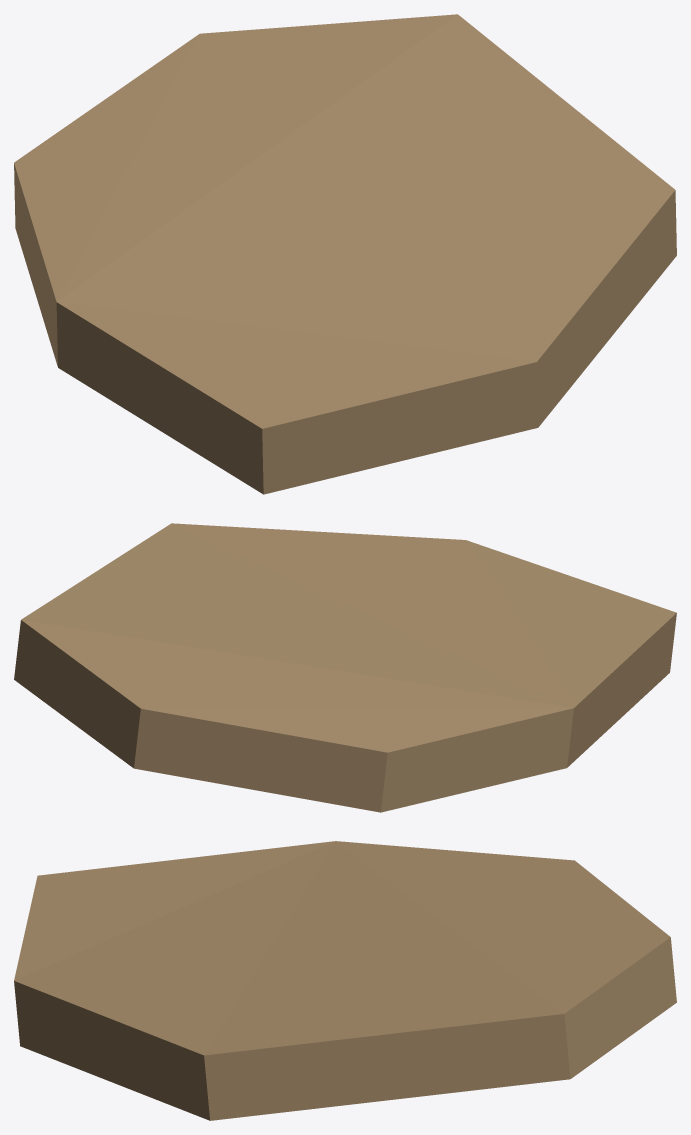
Rendered from Tomatos_0.fbx.
3 renders of one model, top to bottom at view 1: azimuth 30°, elevation 25°; view 2: azimuth 150°, elevation 25°; view 3: azimuth 270°, elevation 25°, orthographic. The views are drawn at different scales.
Visible parts, largest first — view 1: Tomato_0; view 2: Tomato_0; view 3: Tomato_0.
Boxes of the visible parts, x1,y1,x2,y2 form: Tomato_0: [14, 14, 676, 494]; Tomato_0: [14, 523, 676, 812]; Tomato_0: [14, 841, 676, 1120].
Bounding box in the file's own units: 7.83 × 2.09 × 8.93.
